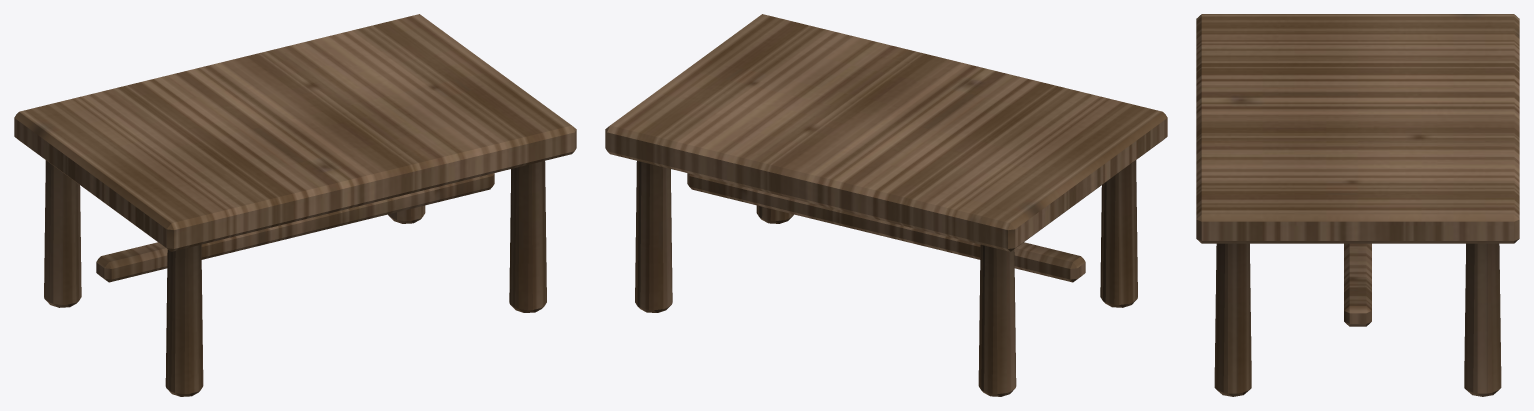
File: p_table.glb
The picture shows the model from 3 angles, left to right: view 1: azimuth 30°, elevation 25°; view 2: azimuth 150°, elevation 25°; view 3: azimuth 270°, elevation 25°; orthographic projection. The views are drawn at different scales.
Visible parts, largest first — view 1: table; view 2: table; view 3: table.
Part boxes in pixels (x1=…): table: x1=14, y1=14, x2=576, y2=396; table: x1=605, y1=14, x2=1167, y2=396; table: x1=1196, y1=14, x2=1519, y2=396.
Size of the model in its own units: 1.05 by 0.455 by 0.7.
1 material, 1 textured.
